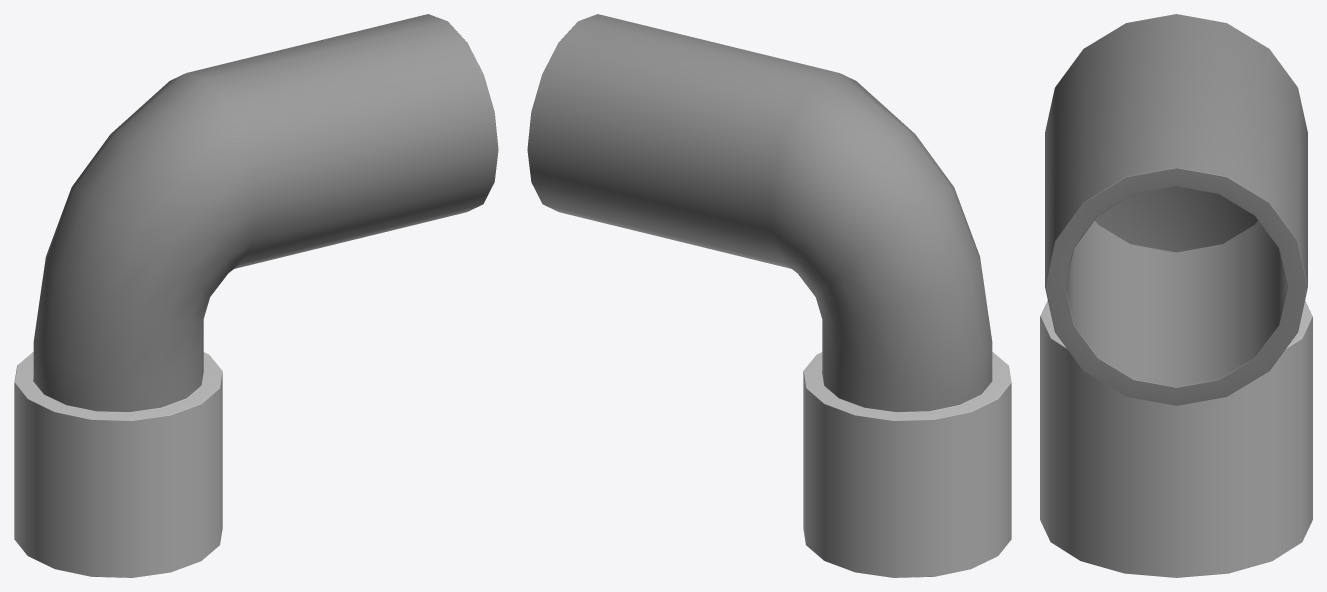
The model's file is SM_Pipe_02.fbx.
The picture shows the model from 3 angles, left to right: view 1: azimuth 30°, elevation 25°; view 2: azimuth 150°, elevation 25°; view 3: azimuth 270°, elevation 25°; orthographic projection. The views are drawn at different scales.
Visible parts, largest first — view 1: SM_Pipe_02; view 2: SM_Pipe_02; view 3: SM_Pipe_02.
Part boxes in pixels (bbox=[...]): SM_Pipe_02: bbox=[14, 14, 498, 577]; SM_Pipe_02: bbox=[527, 14, 1011, 577]; SM_Pipe_02: bbox=[1040, 14, 1312, 577].
Size of the model in its own units: 115 by 49.81 by 113.
1 material, 1 textured.
